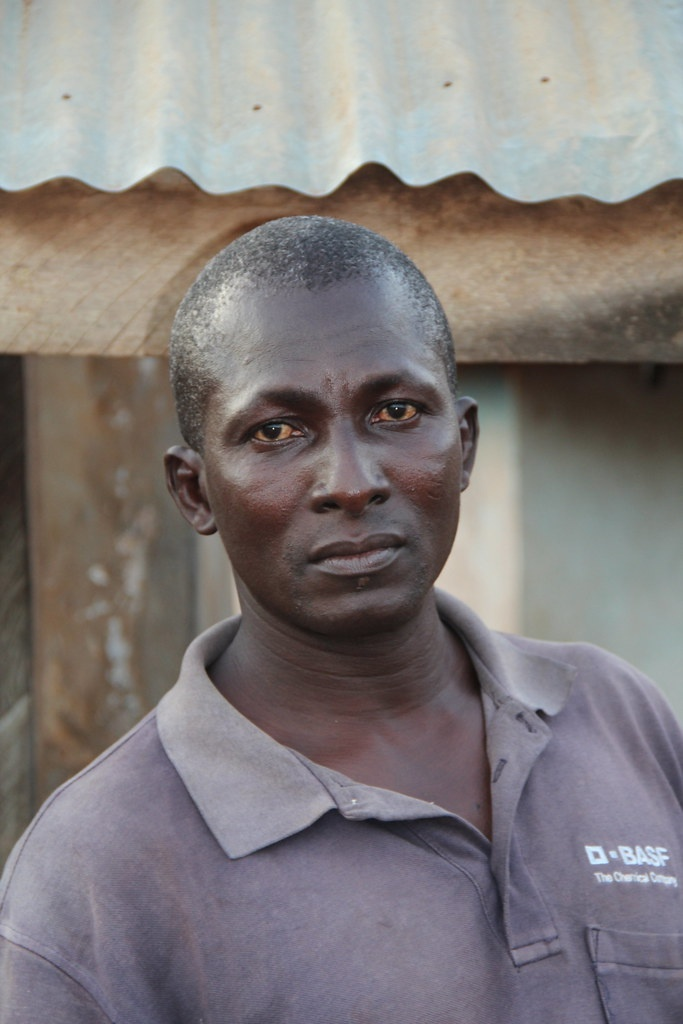without_mask: (167, 263, 468, 620)
